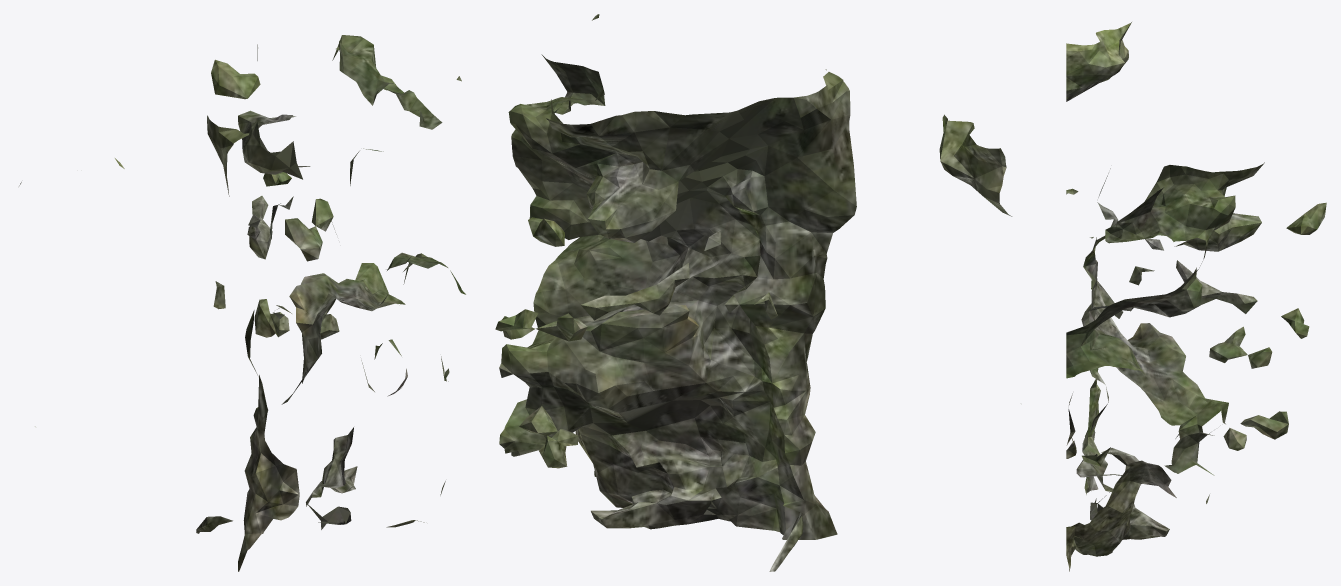
3 renders of one model, left to right at view 1: azimuth 30°, elevation 25°; view 2: azimuth 150°, elevation 25°; view 3: azimuth 270°, elevation 25°, orthographic. The views are drawn at different scales.
Bounding box in the file's own units: 5.9 × 5.9 × 3.66.
3 materials, 3 textured.
